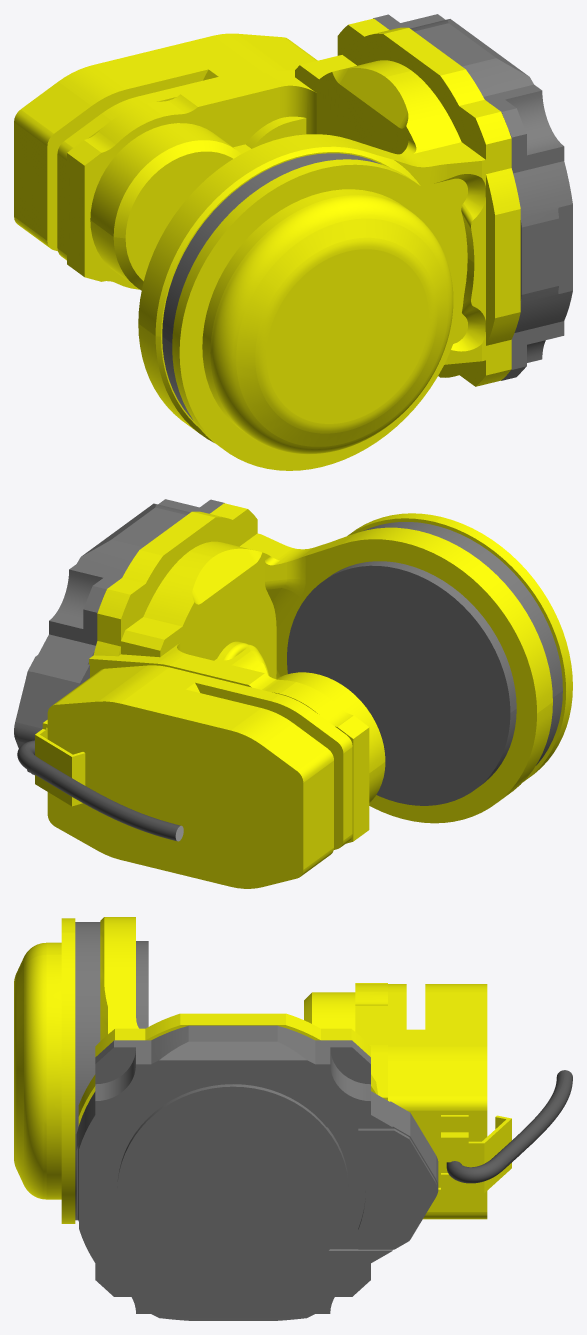
The picture shows the model from 3 angles, top to bottom: view 1: azimuth 30°, elevation 25°; view 2: azimuth 150°, elevation 25°; view 3: azimuth 270°, elevation 25°; orthographic projection. The views are drawn at different scales.
Parts seen in each view (by area): view 1: Mesh_0; view 2: Mesh_0; view 3: Mesh_0.
Boxes of the visible parts, x1,y1,x2,y2 form: Mesh_0: [14, 14, 572, 470]; Mesh_0: [14, 499, 572, 888]; Mesh_0: [14, 917, 572, 1320].
Size of the model in its own units: 0.3507 by 0.4463 by 0.247.
